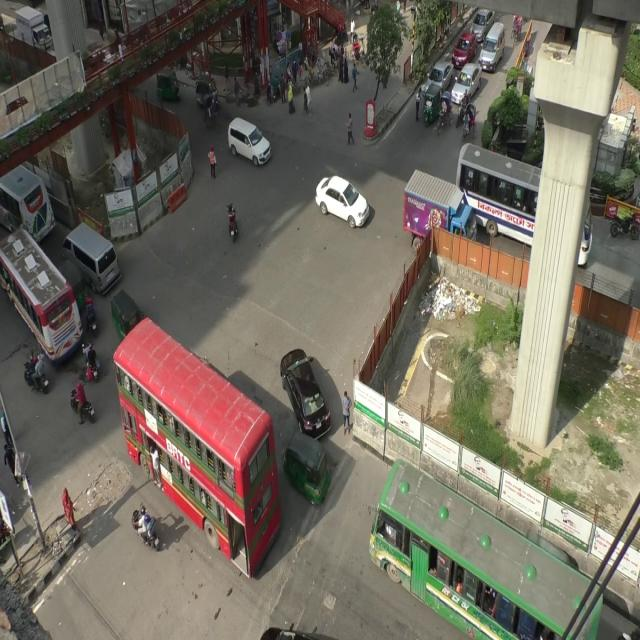cng: (283, 428, 336, 512), (104, 284, 139, 339), (193, 71, 220, 113), (151, 68, 180, 104), (424, 84, 442, 127)
rikshaw: (305, 53, 330, 91), (461, 100, 478, 150), (436, 87, 454, 133), (350, 31, 368, 69)
